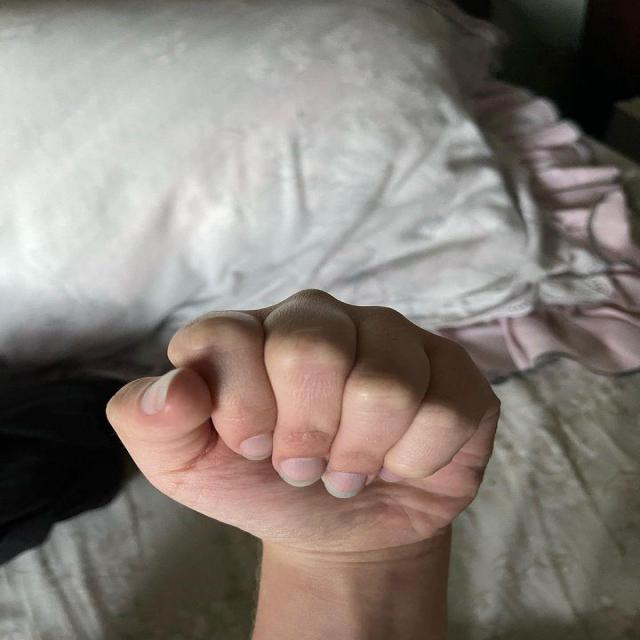A: (92, 285, 514, 544)
